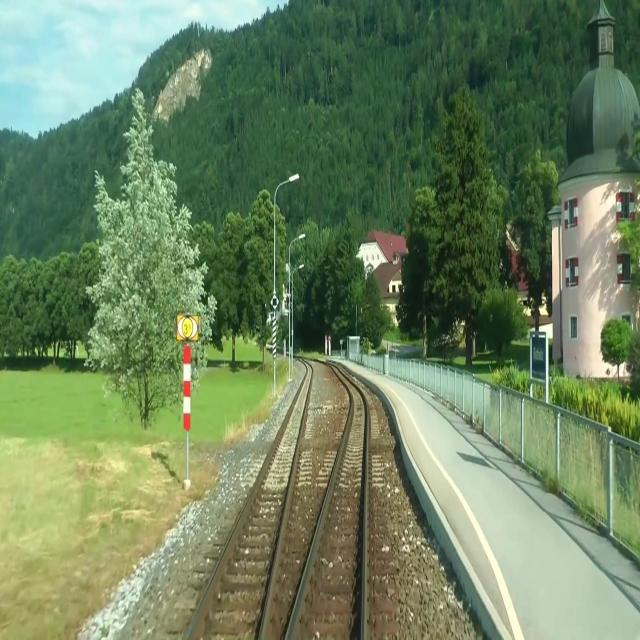rail-track: (188, 367, 310, 639), (291, 382, 365, 639)
